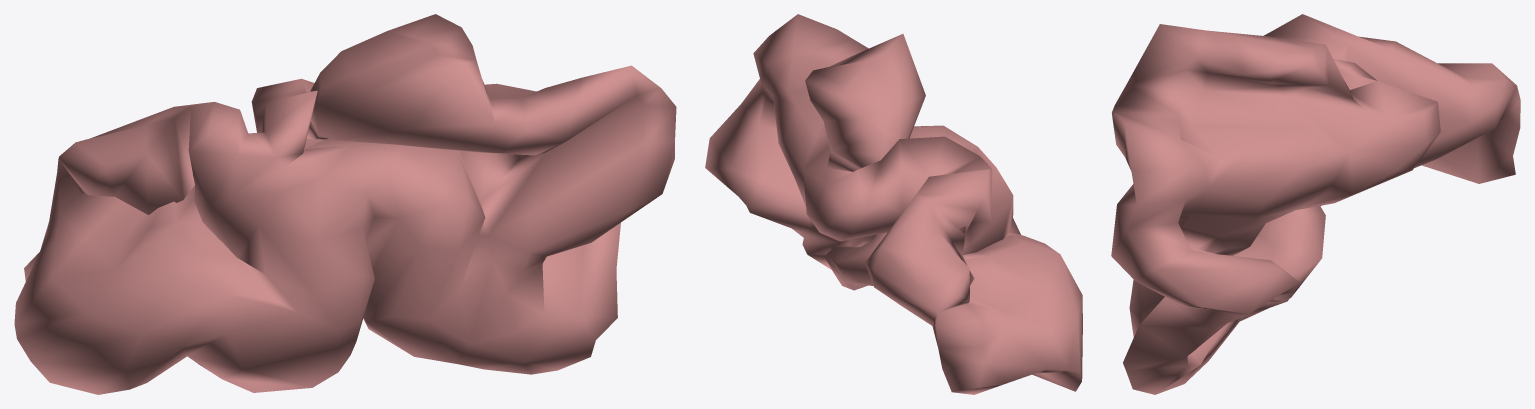
The model's file is PreFrontal_R.001.fbx.
3 renders of one model, left to right at view 1: azimuth 30°, elevation 25°; view 2: azimuth 150°, elevation 25°; view 3: azimuth 270°, elevation 25°, orthographic. The views are drawn at different scales.
Parts seen in each view (by area): view 1: Orbital gyri (Frontomarginal gyrus and sulcus*).r.001; view 2: Orbital gyri (Frontomarginal gyrus and sulcus*).r.001; view 3: Orbital gyri (Frontomarginal gyrus and sulcus*).r.001.
Part boxes in pixels (bbox=[...]): Orbital gyri (Frontomarginal gyrus and sulcus*).r.001: bbox=[14, 14, 676, 394]; Orbital gyri (Frontomarginal gyrus and sulcus*).r.001: bbox=[705, 14, 1082, 394]; Orbital gyri (Frontomarginal gyrus and sulcus*).r.001: bbox=[1111, 14, 1520, 394].
Bounding box in the file's own units: 4.36 × 2.76 × 2.44.
